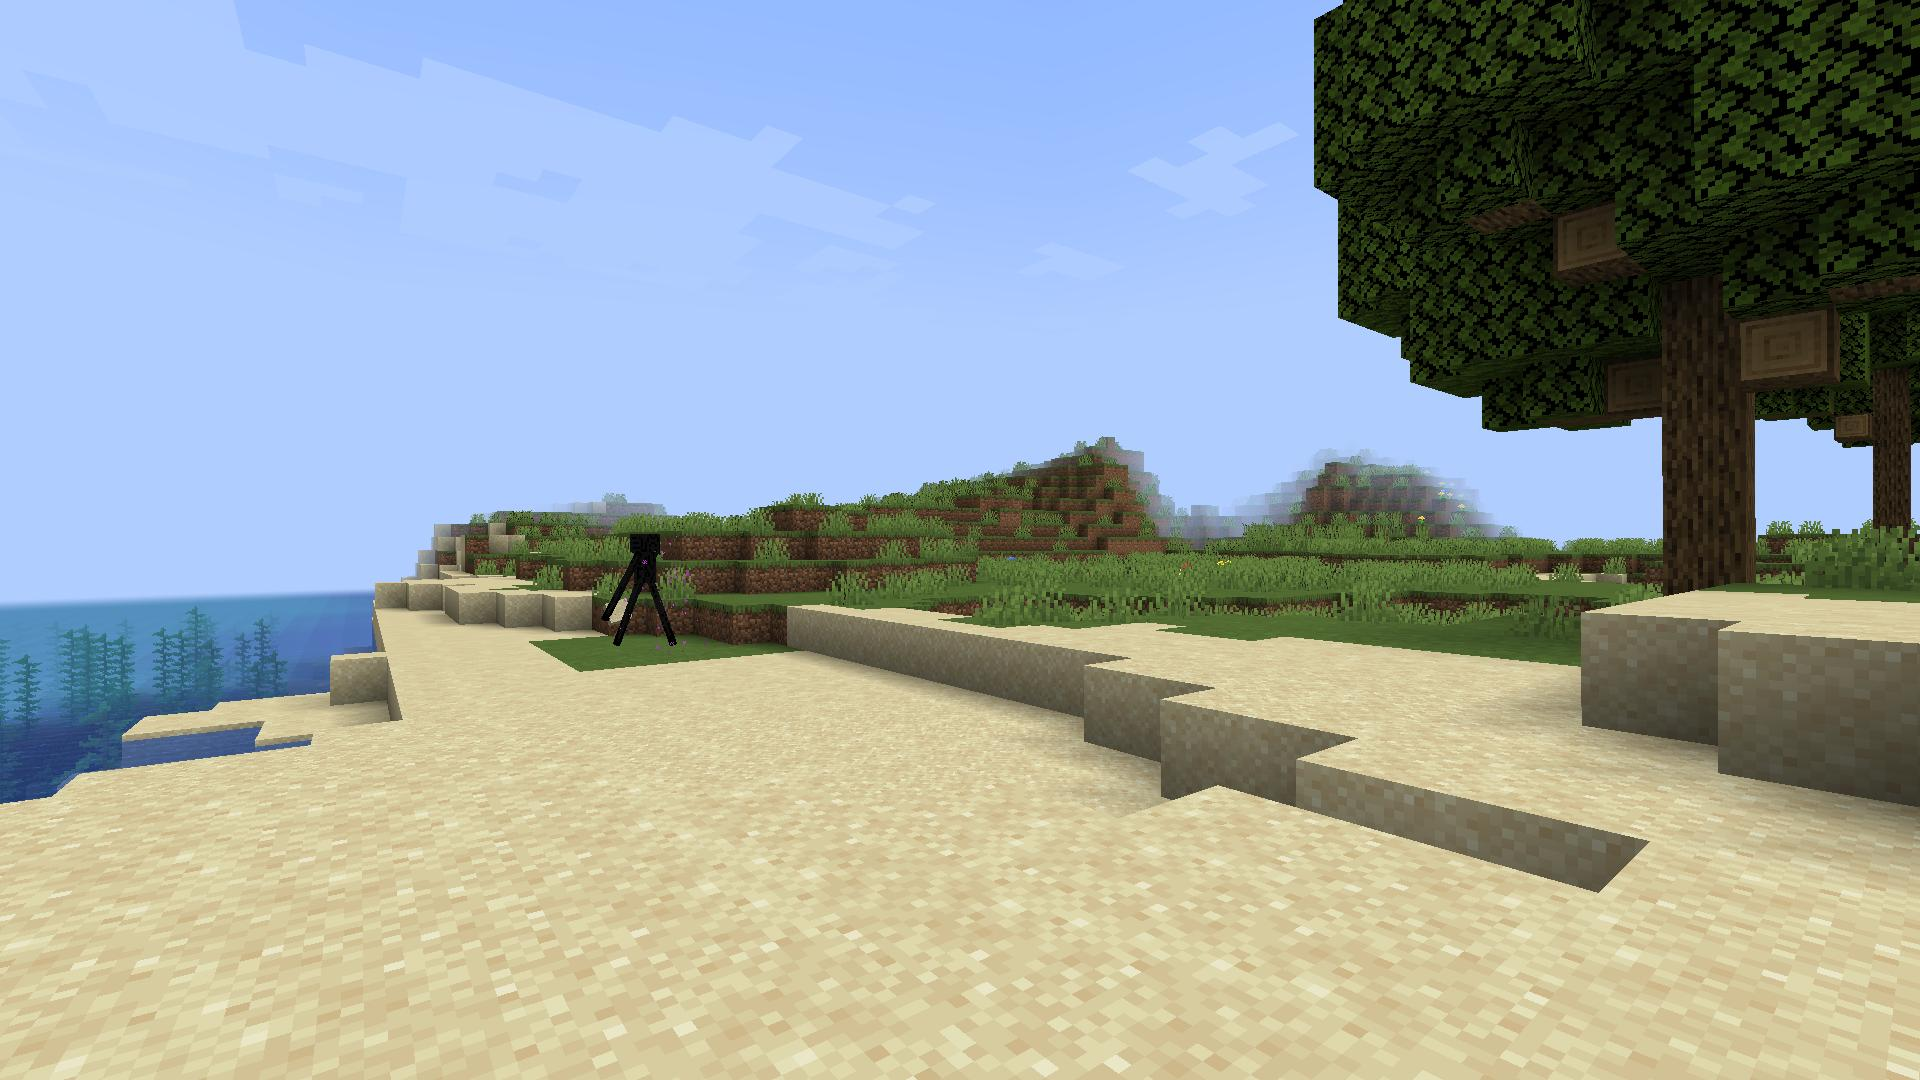enderman: (595, 525, 684, 661)
